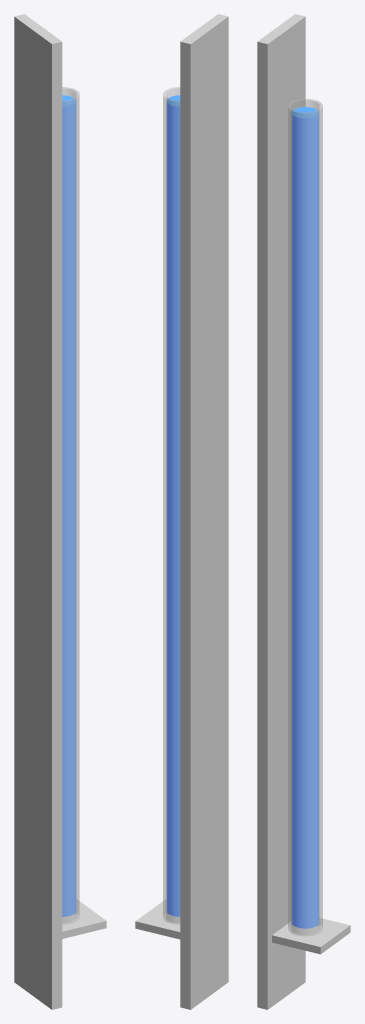
File: quimica.fbx
The picture shows the model from 3 angles, left to right: view 1: azimuth 30°, elevation 25°; view 2: azimuth 150°, elevation 25°; view 3: azimuth 330°, elevation 25°; orthographic projection.
Visible parts, largest first — view 1: Cube, Cylinder, Cylinder.001, Cube.001; view 2: Cube, Cylinder, Cylinder.001, Cube.001; view 3: Cube, Cylinder, Cylinder.001, Cube.001.
Part boxes in pixels (box(x1,y1,x2,y2)): Cube: box(14, 14, 62, 1009); Cylinder: box(62, 87, 79, 924); Cylinder.001: box(62, 95, 75, 916); Cube.001: box(62, 899, 106, 938); Cube: box(180, 14, 228, 1009); Cylinder: box(163, 87, 180, 924); Cylinder.001: box(167, 95, 180, 916); Cube.001: box(135, 899, 180, 939); Cube: box(257, 14, 305, 1009); Cylinder: box(288, 98, 322, 936); Cylinder.001: box(292, 107, 318, 928); Cube.001: box(272, 918, 350, 954).
Bounding box in the file's own units: 39.58 × 619 × 43.99.
